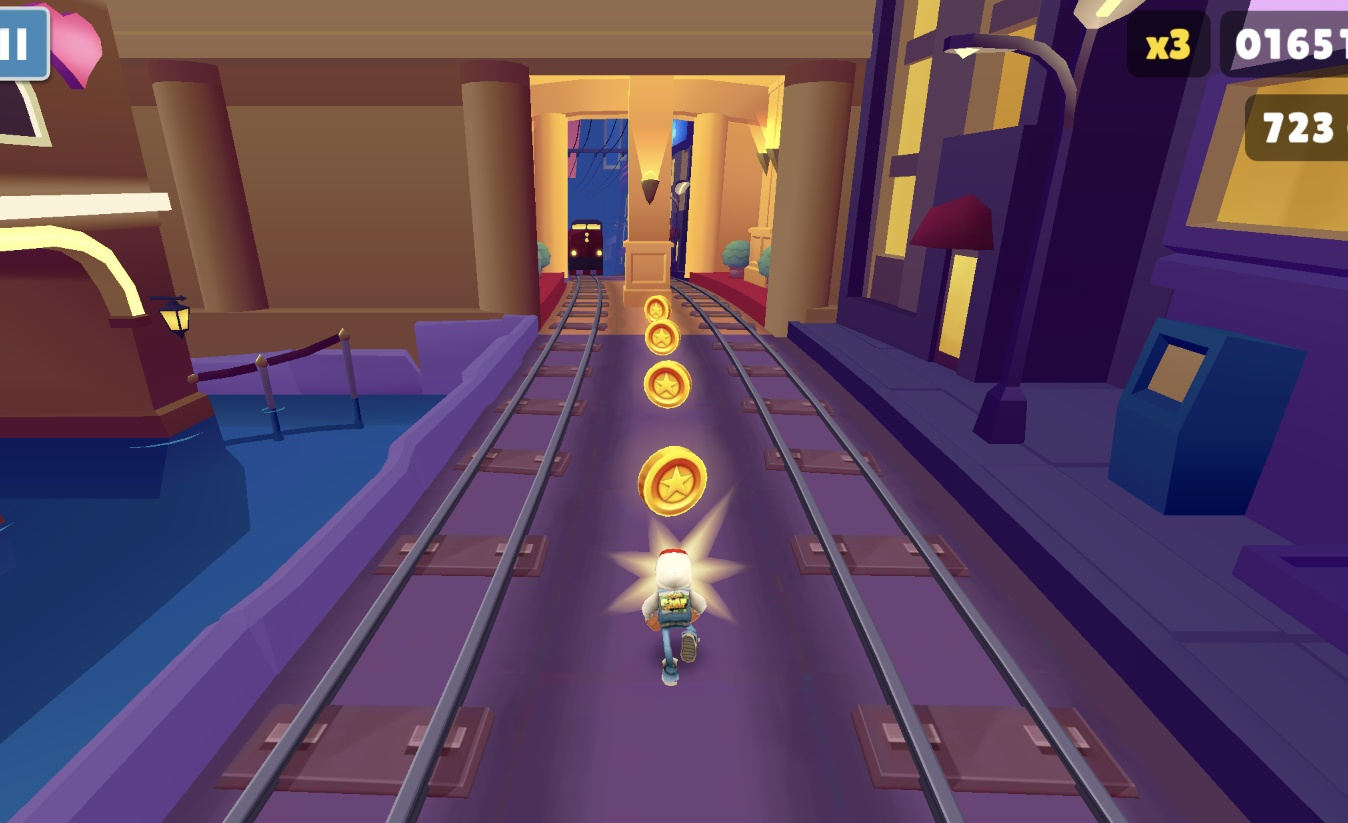pillar: (617, 77, 687, 333)
train: (563, 217, 610, 293)
